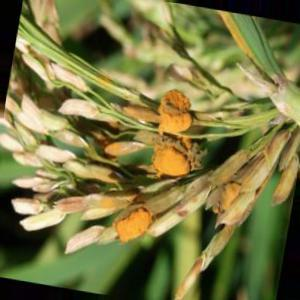Leaf_Scald: (151, 88, 194, 186), (114, 215, 157, 246), (216, 176, 246, 215)
